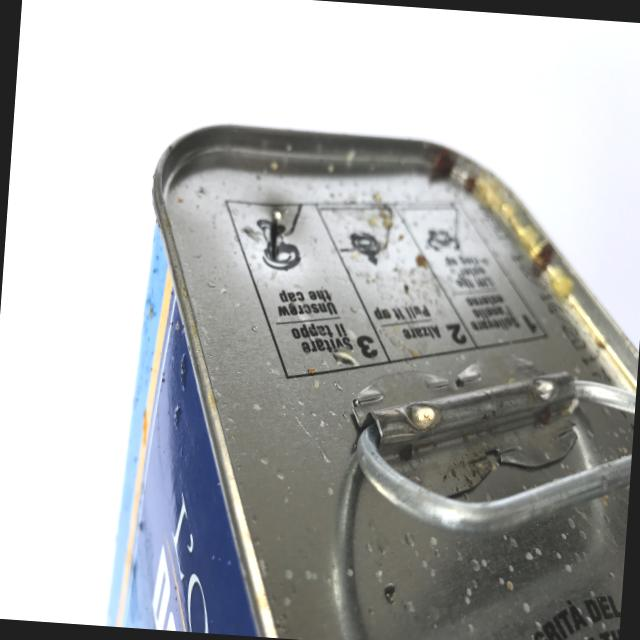Metal: (80, 81, 640, 640)
